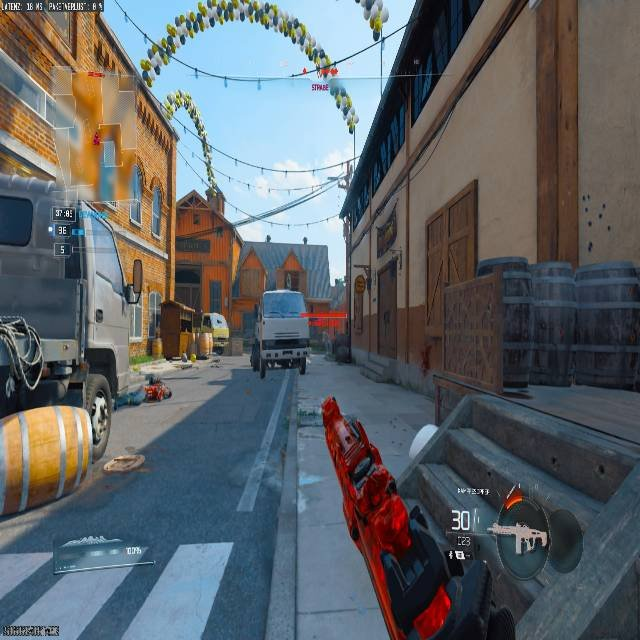head: (160, 386, 172, 400)
player: (351, 0, 402, 42)
